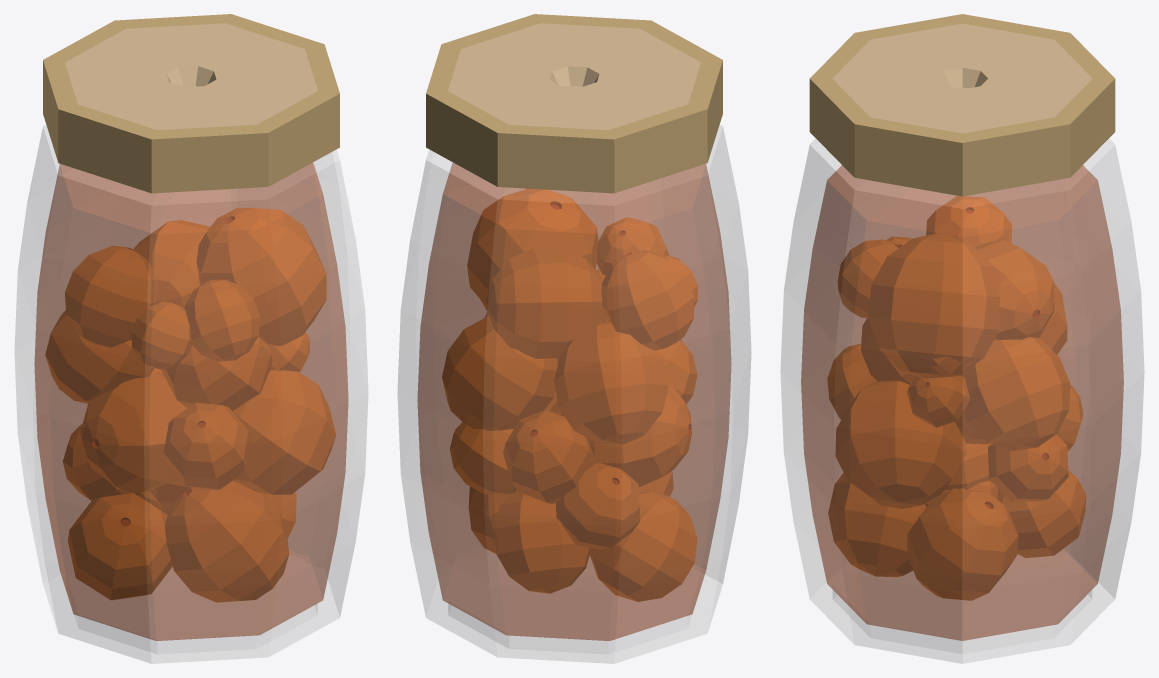
File: PutSa Jar.glb
The picture shows the model from 3 angles, left to right: view 1: azimuth 30°, elevation 25°; view 2: azimuth 150°, elevation 25°; view 3: azimuth 270°, elevation 25°; orthographic projection.
Parts seen in each view (by area): view 1: PutSa Jar; view 2: PutSa Jar; view 3: PutSa Jar.
Part boxes in pixels (bbox=[...]): PutSa Jar: bbox=[14, 14, 368, 663]; PutSa Jar: bbox=[397, 14, 751, 663]; PutSa Jar: bbox=[780, 14, 1144, 663].
Size of the model in its own units: 0.9491 by 1.5 by 0.9491.
